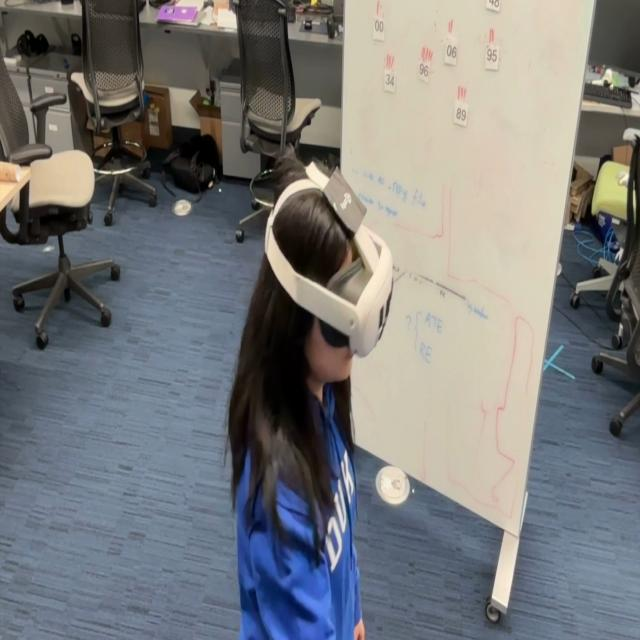Headset: (263, 165, 394, 358)
UnityLogo: (321, 163, 368, 238)
